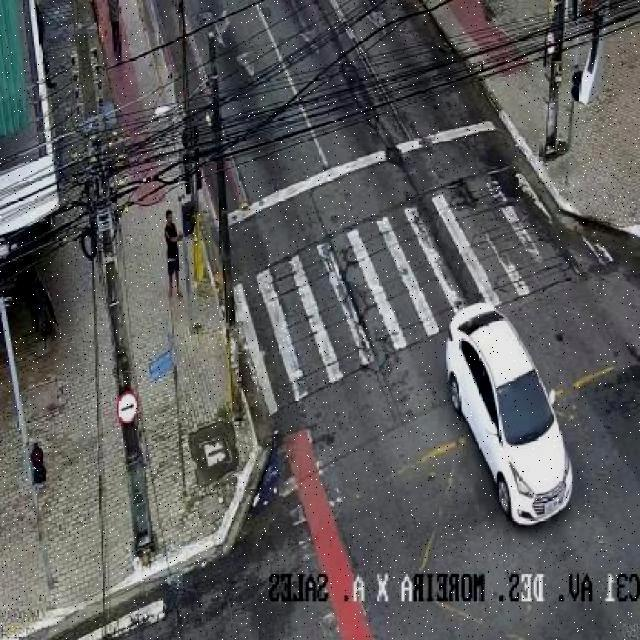Car: (442, 300, 581, 530)
